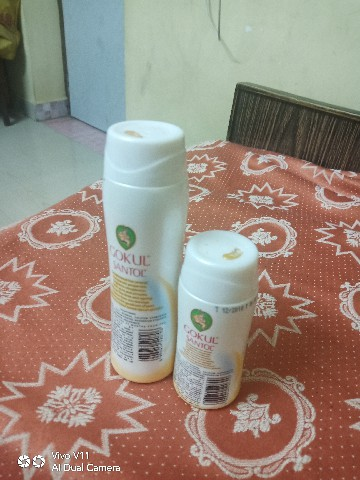gokulsantol big: (88, 113, 182, 390)
gokulsantol small: (178, 228, 257, 427)
